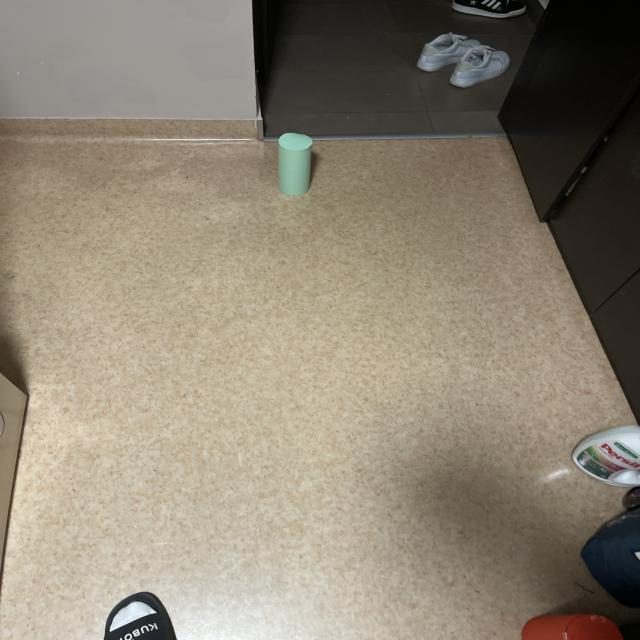meta: (278, 133, 312, 195)
